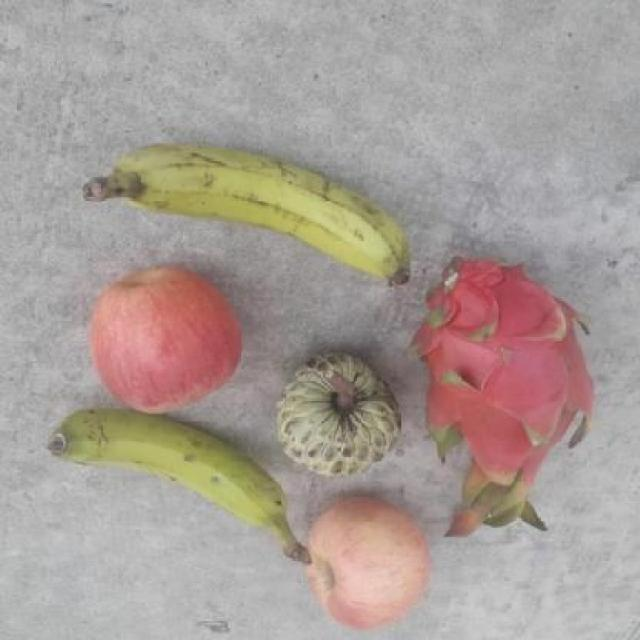apple: (87, 265, 242, 413), (302, 496, 430, 632)
banana: (83, 139, 417, 290), (47, 407, 316, 565)
dragon fruit: (409, 254, 600, 538)
sugar apple: (276, 349, 404, 477)
